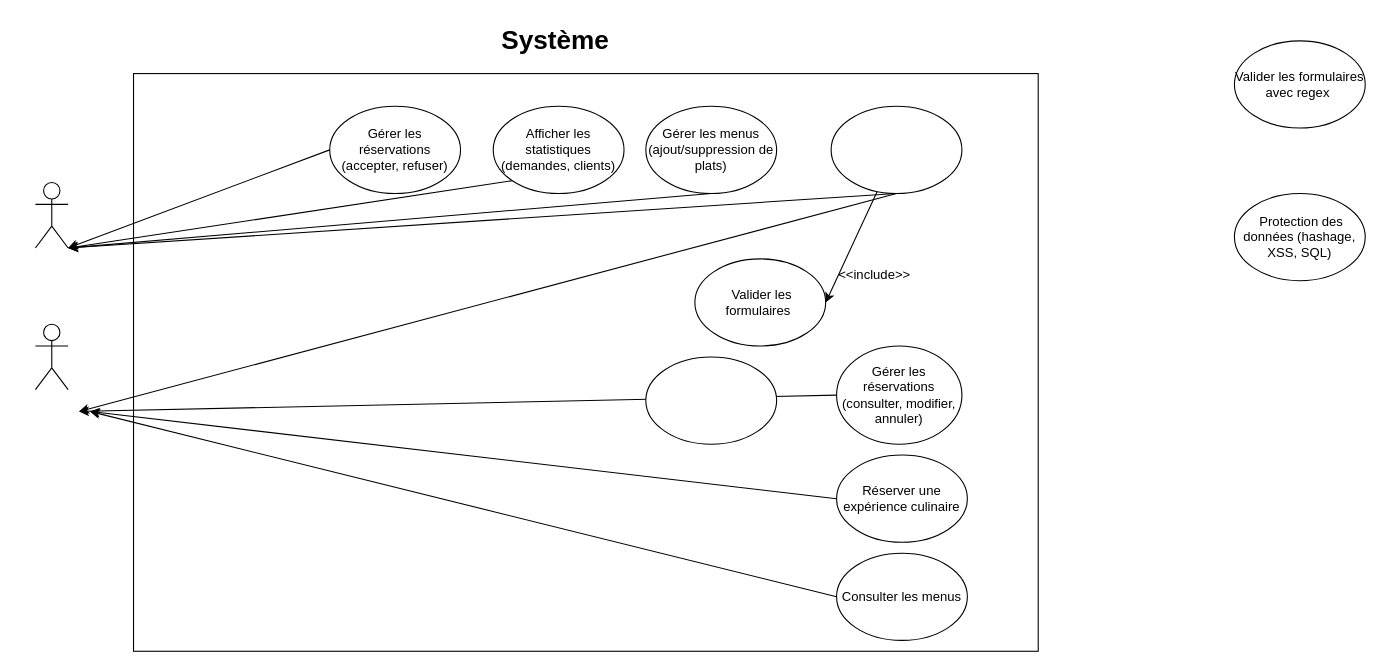
The diagram is 1384 pixels wide and 670 high, and some of its shapes have lost their labels. The shapes that lost their labels are listed below. From the top down, each one's centre as x and y in pixels, then its label:
point (896, 149): S'inscrire / Se connecter
point (51, 214): Chaf
point (51, 356): Utilisateur
